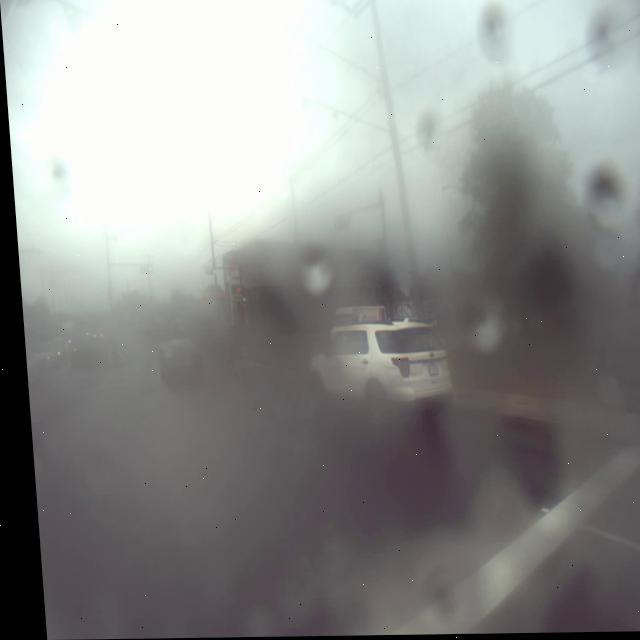truck: (294, 315, 452, 433)
